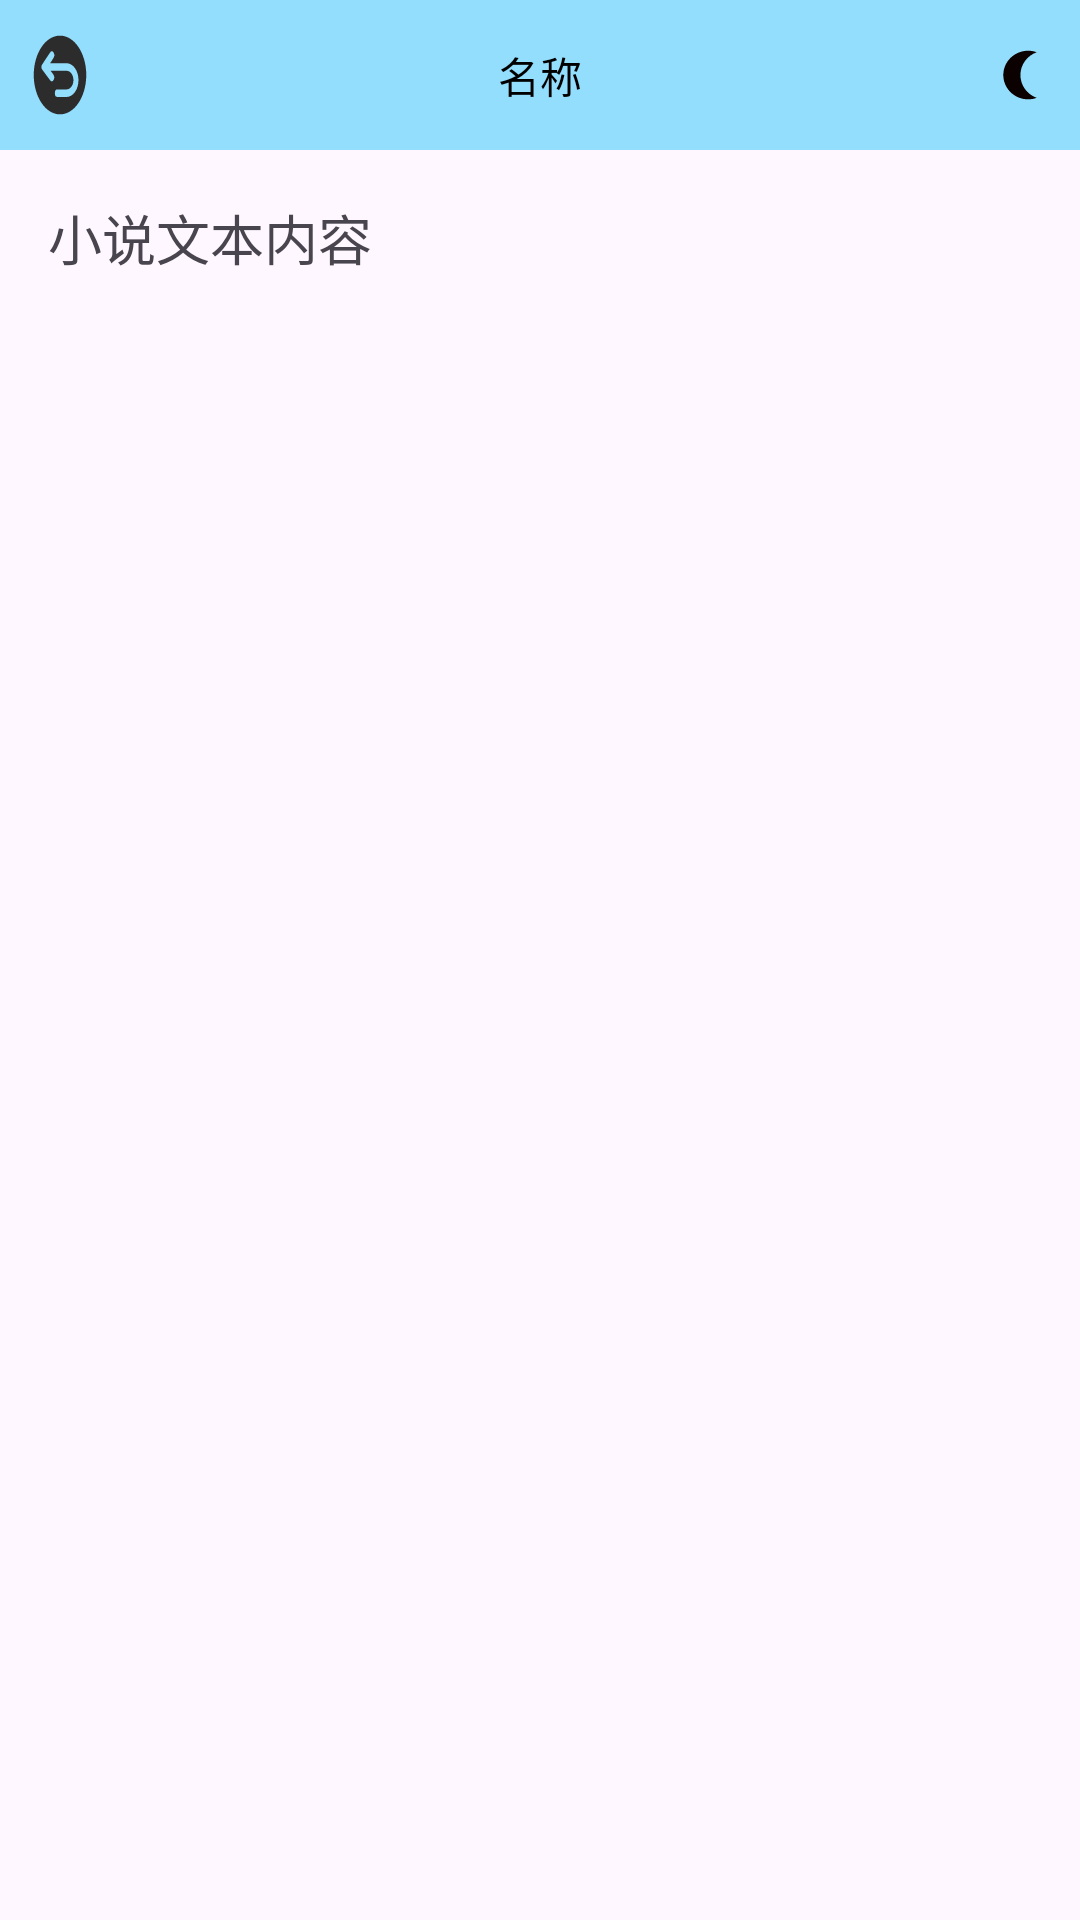

Where icons sit on this 1080 × 1920 app screen, as detection(x1, y1, x2, y2):
back: detection(33, 35, 87, 115)
moom: detection(1003, 50, 1037, 100)
